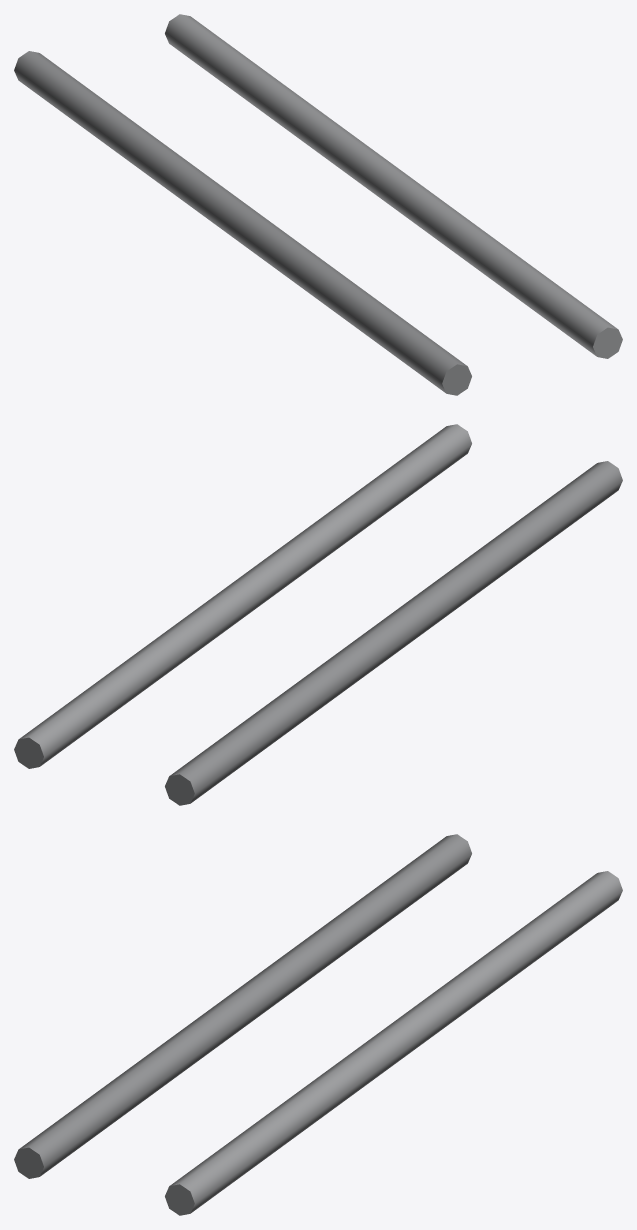
3 renders of one model, top to bottom at view 1: azimuth 30°, elevation 25°; view 2: azimuth 150°, elevation 25°; view 3: azimuth 330°, elevation 25°, orthographic.
Bounding box in the file's own units: 0.444 × 0.074 × 1.82.
